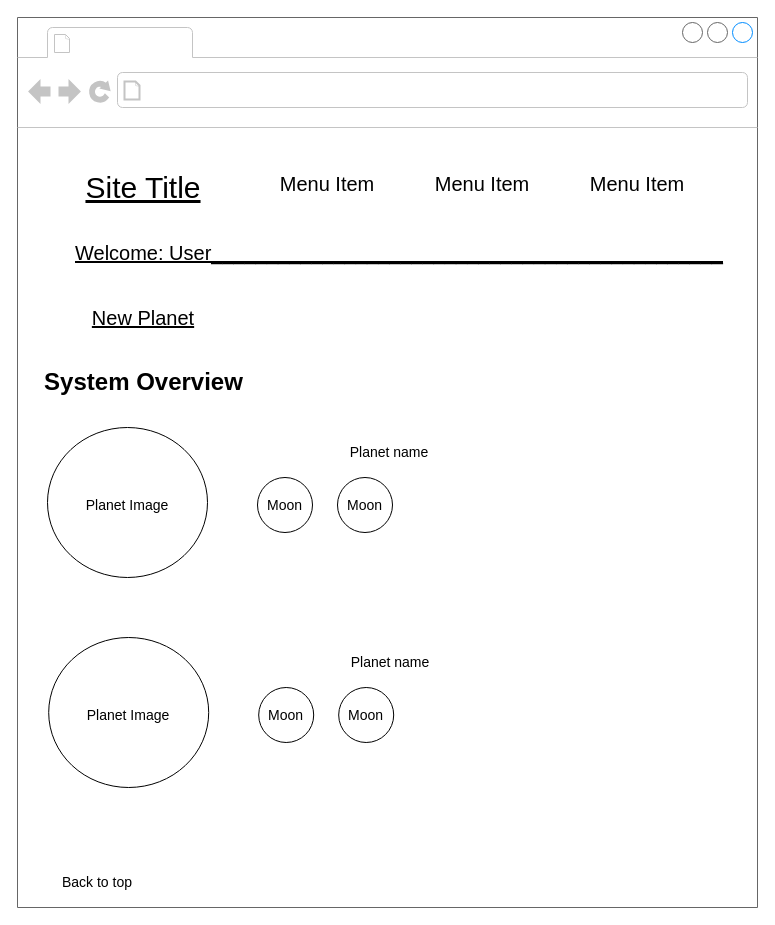
The diagram is 775 pixels wide and 925 high, and some of its shapes have lost their labels. The centre of each missing label's shape, as x and y in pixels:
"http://127.0.0.1:5005/" belongs at [272,90].
"Page 1" belongs at [132,42].
